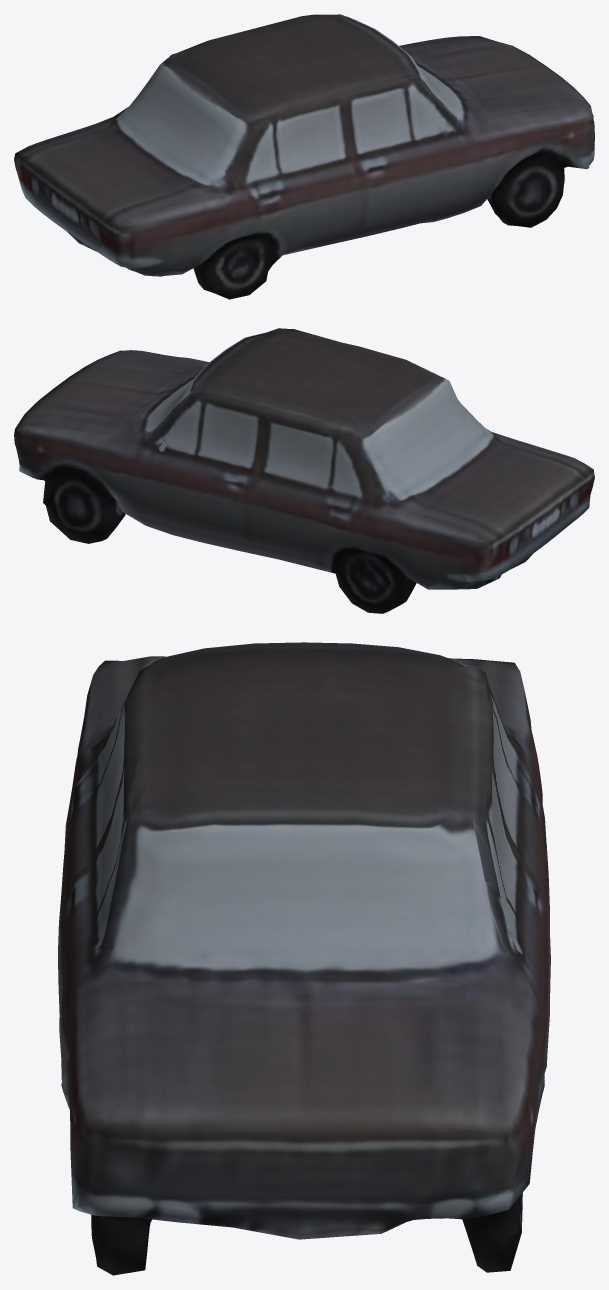
Rendered from 01424030fe39_Old_Soviet_era_car_.fbx.
3 renders of one model, top to bottom at view 1: azimuth 30°, elevation 25°; view 2: azimuth 150°, elevation 25°; view 3: azimuth 270°, elevation 25°, orthographic. The views are drawn at different scales.
Parts seen in each view (by area): view 1: mesh; view 2: mesh; view 3: mesh.
Part boxes in pixels (x1,y1,x2,y2): mesh: (14, 14, 594, 299); mesh: (14, 328, 594, 613); mesh: (58, 642, 550, 1275).
Bounding box in the file's own units: 4.5 × 1.97 × 1.6.
